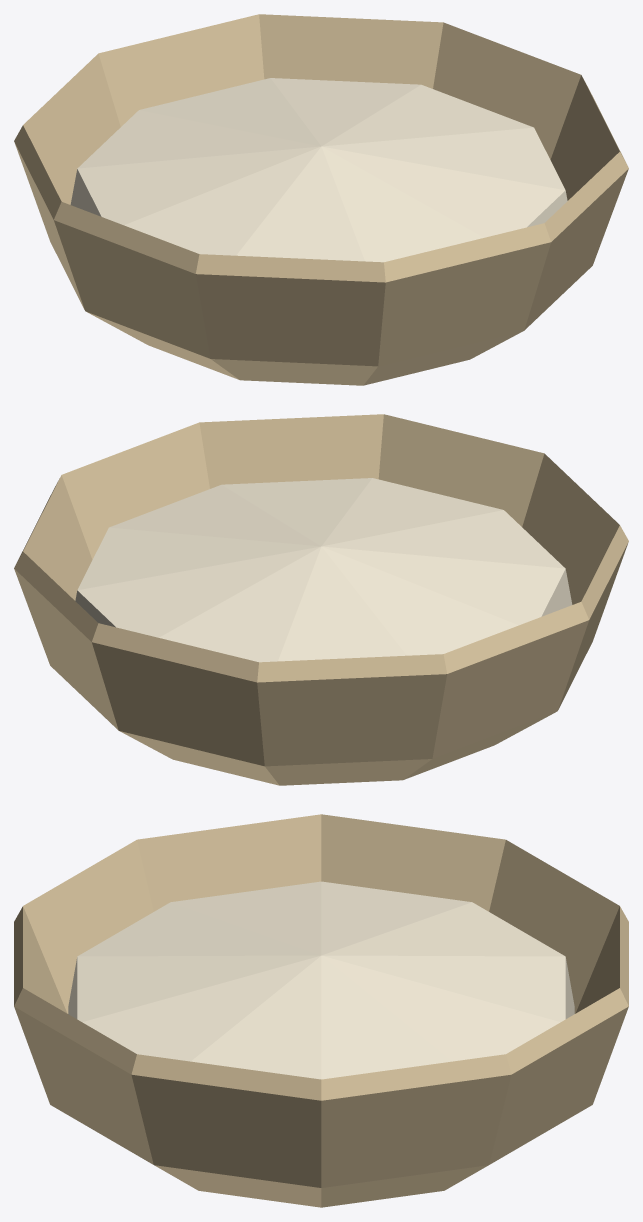
File: prop-proofing-basket.fbx
3 renders of one model, top to bottom at view 1: azimuth 30°, elevation 25°; view 2: azimuth 150°, elevation 25°; view 3: azimuth 270°, elevation 25°, orthographic. The views are drawn at different scales.
Visible parts, largest first — view 1: prop-proofing-basket; view 2: prop-proofing-basket; view 3: prop-proofing-basket.
Boxes of the visible parts, x1,y1,x2,y2 form: prop-proofing-basket: (14,14,628,385); prop-proofing-basket: (14,414,628,785); prop-proofing-basket: (14,814,628,1207).
Size of the model in its own units: 34 by 10 by 32.34.
